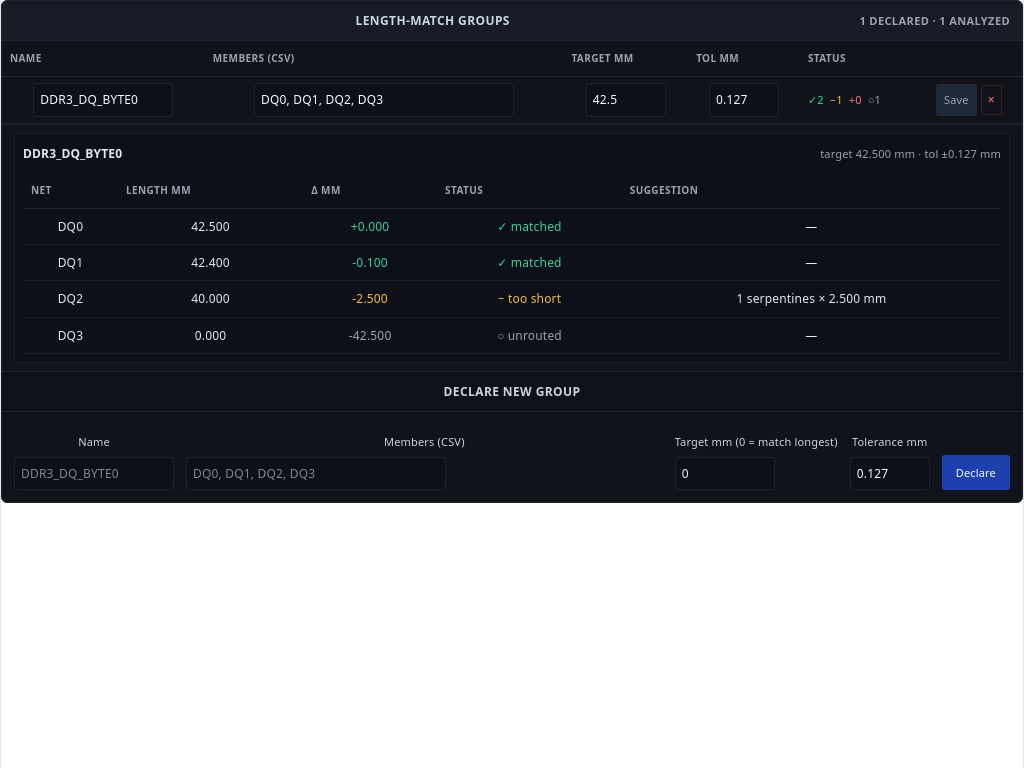
Test: LengthMatchPanel (M3-T-04) › Delete POSTs ui_lengthgroup_delete and removes the row
This screenshot has width=1024, height=768.
Click the button with test id "length-match-delete" at (991, 100), box [981,85,1002,115]
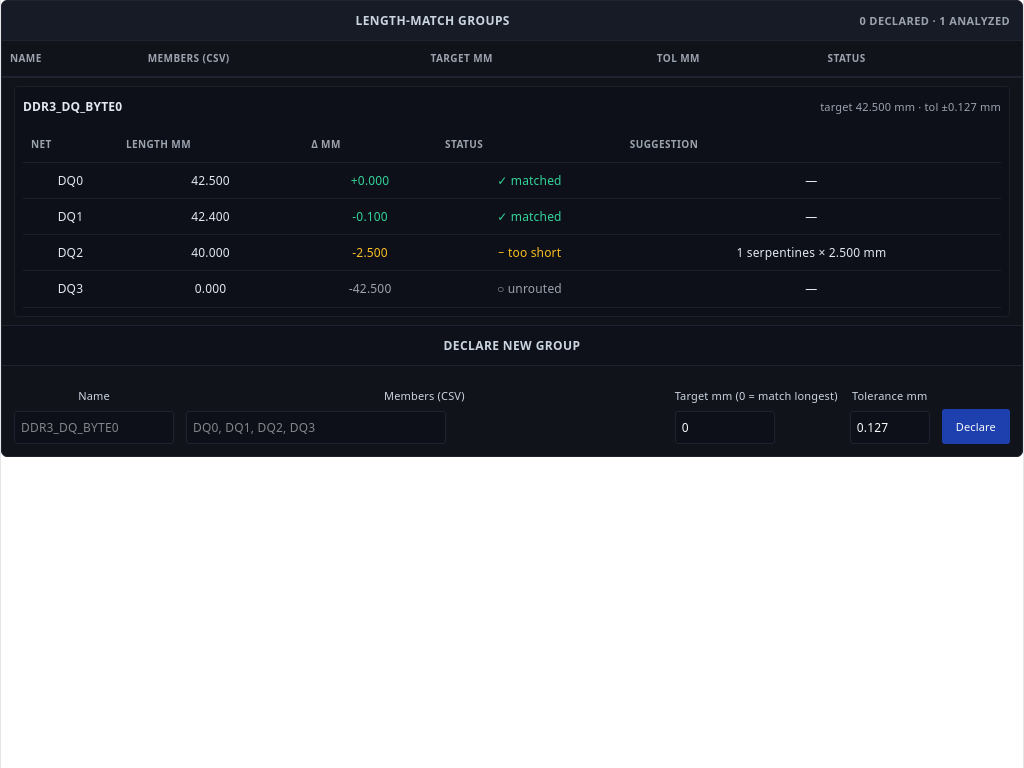
Expected: the text "DDR3_DQ_BYTE0" is shown, [23,95,122,119]
Now no rows with test id "length-match-row" are shown
